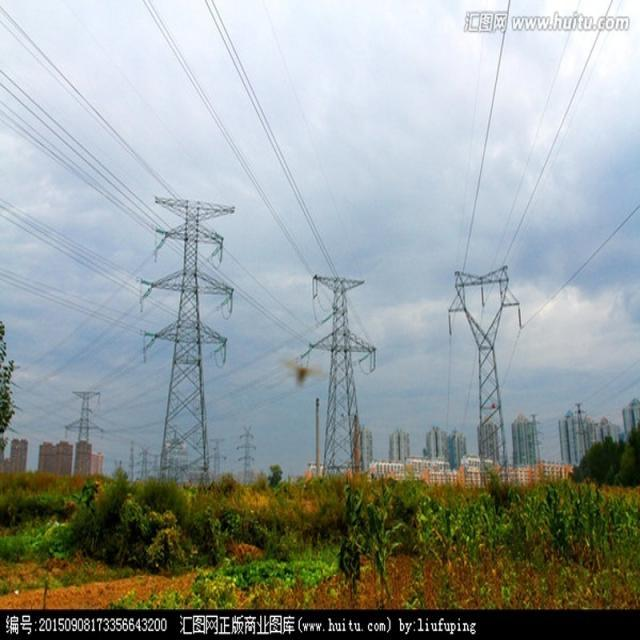non-critical vegetation: (134, 180, 230, 479), (440, 258, 530, 471), (298, 264, 384, 471), (66, 382, 102, 478), (234, 424, 256, 476)
